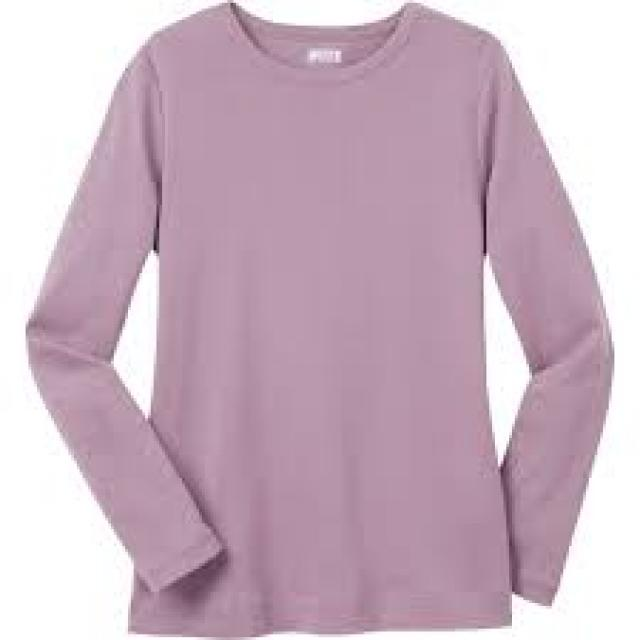plain: (28, 5, 625, 633)
